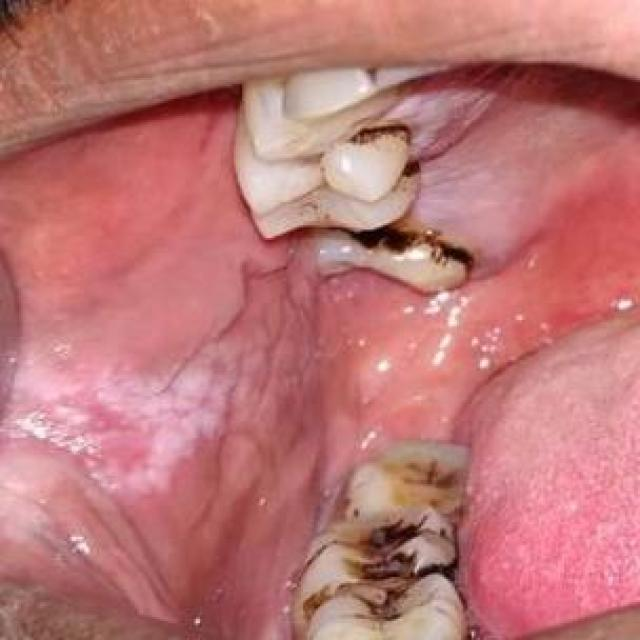leukoplakia-detection: (0, 330, 236, 574), (391, 73, 540, 273)
processing_area: (0, 68, 638, 638)
